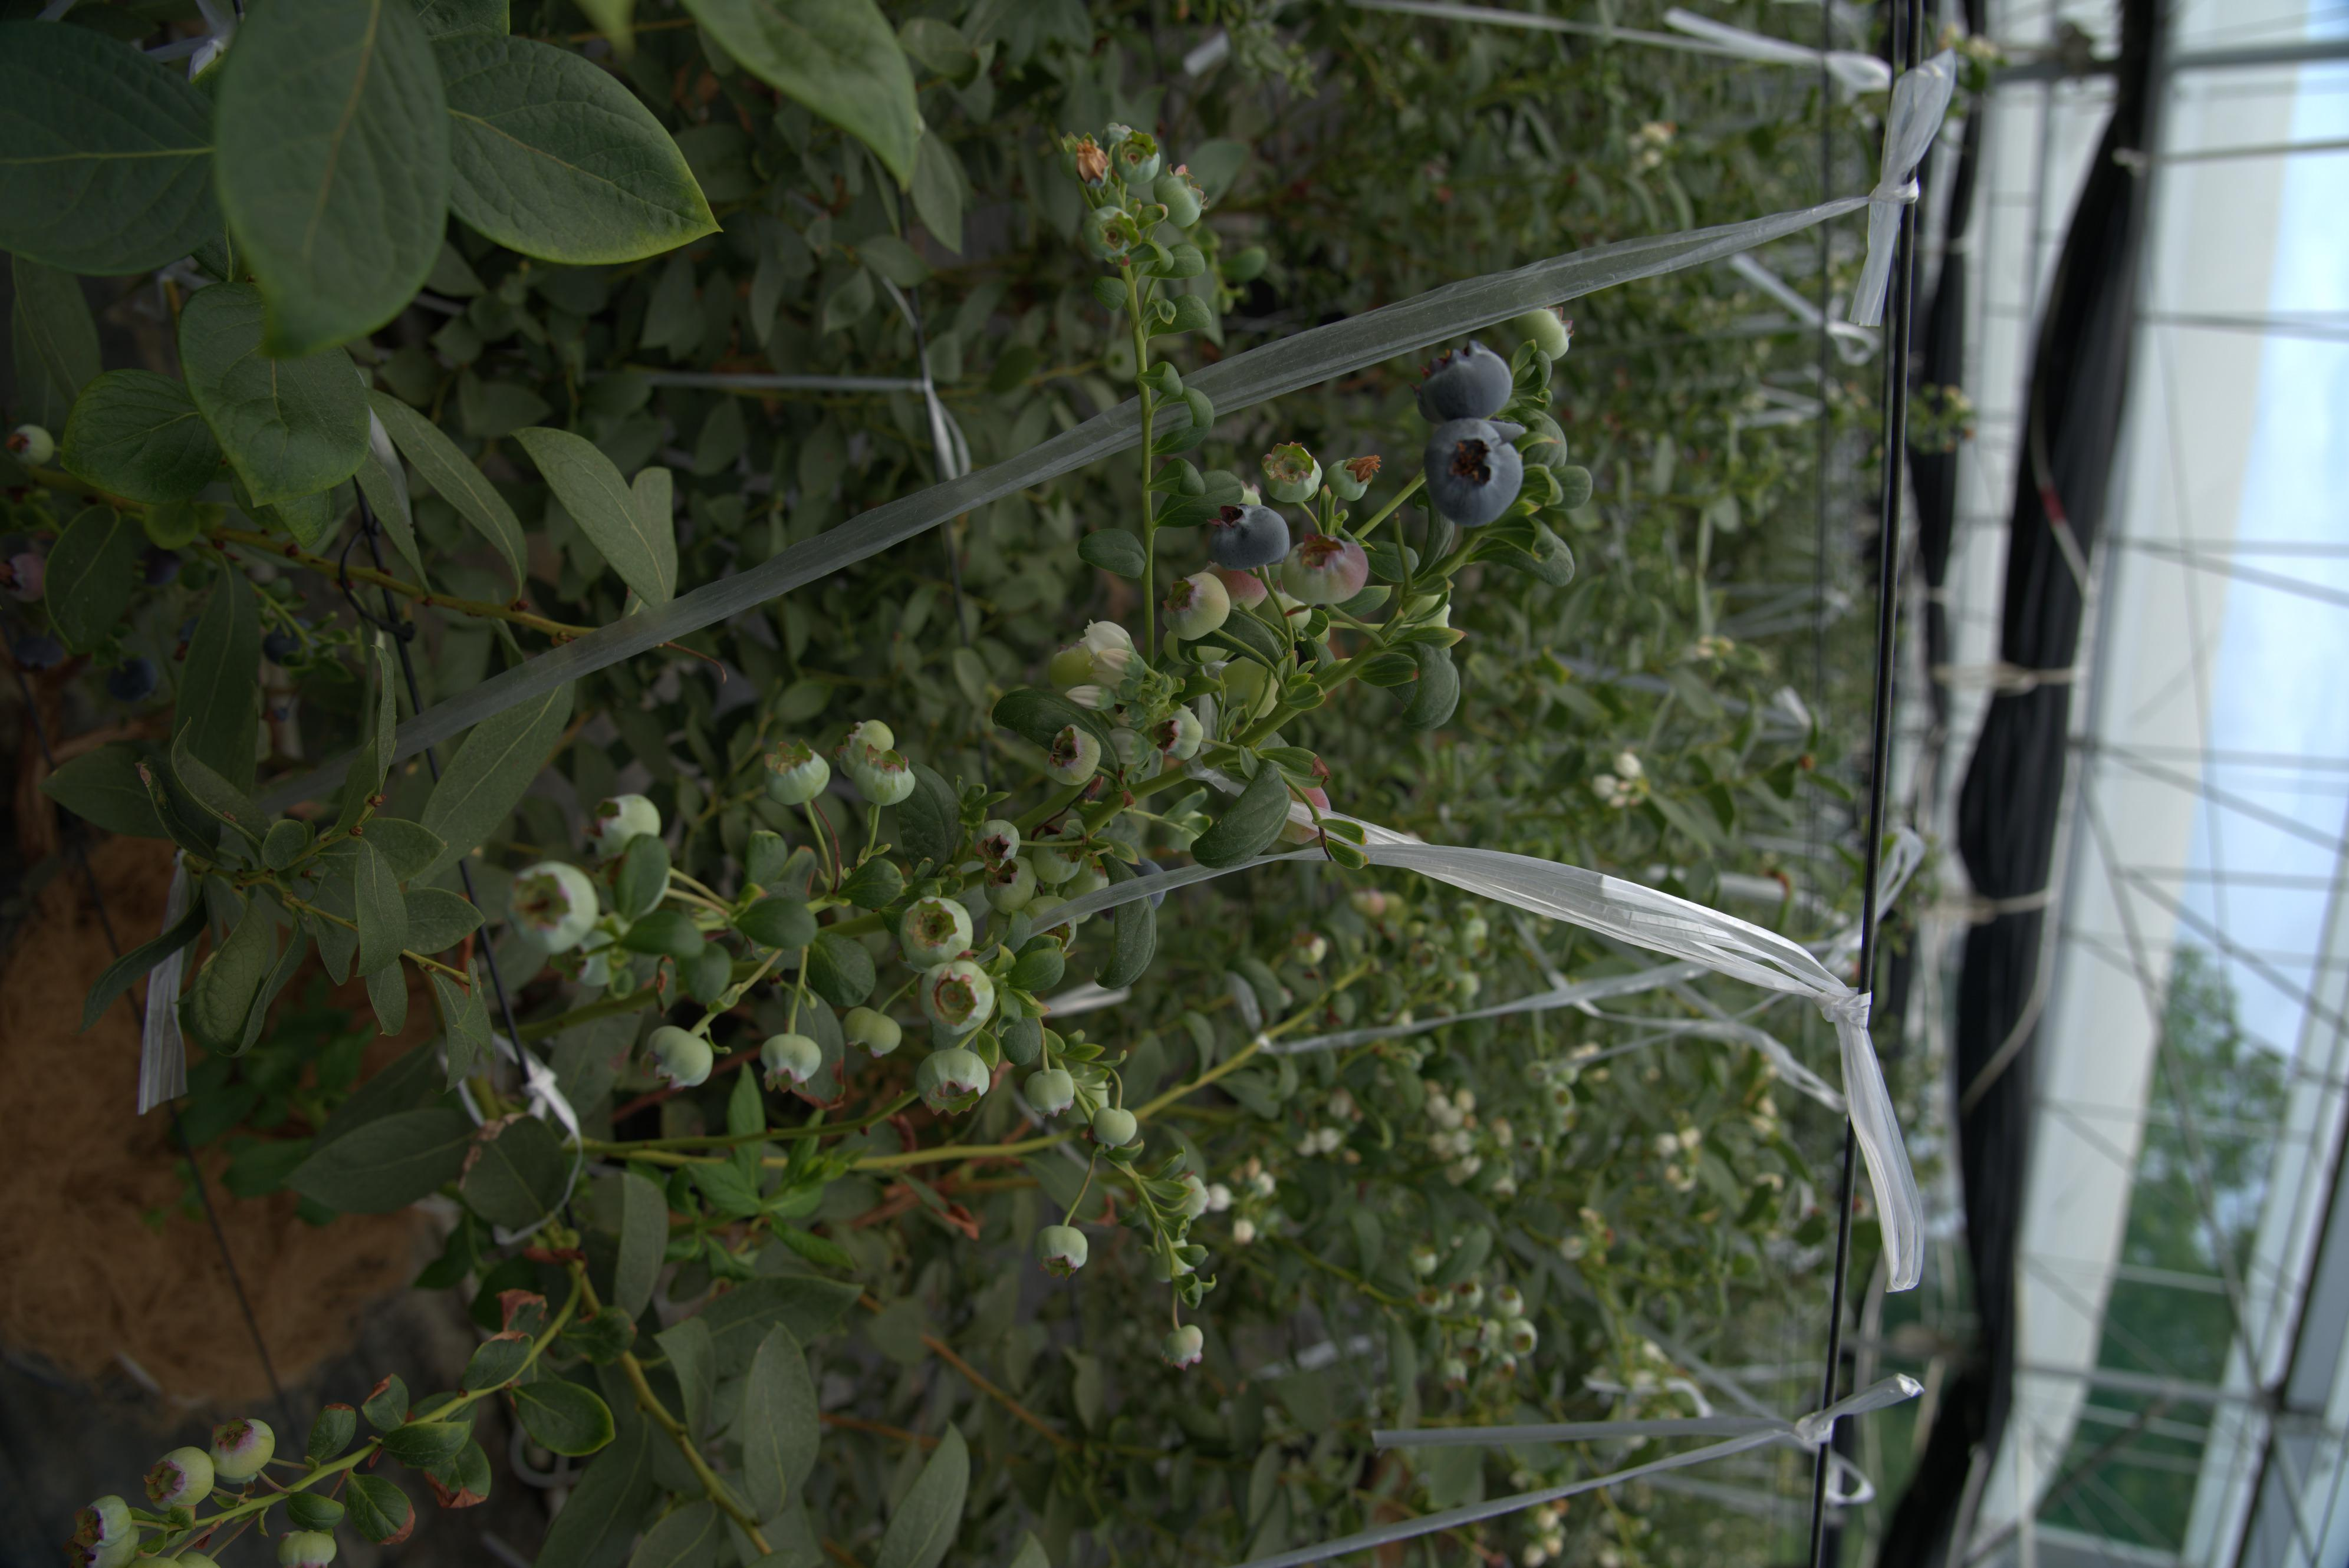ripe-blueberries: (623, 549, 796, 621), (746, 705, 854, 768), (520, 560, 623, 618), (663, 677, 756, 731)
semi-ripe-blueberries: (1295, 1171, 1441, 1237), (795, 653, 926, 716), (844, 742, 966, 796), (1542, 1011, 1647, 1073), (1348, 919, 1456, 975), (1533, 1090, 1642, 1144), (1567, 903, 1677, 955), (1444, 901, 1560, 950), (1101, 1011, 1208, 1064), (2153, 1424, 2263, 1472), (2233, 1473, 2328, 1528), (1108, 954, 1220, 997), (1831, 835, 1927, 884), (1187, 1125, 1276, 1178), (1082, 829, 1183, 875), (1043, 763, 1157, 801), (2128, 1377, 2214, 1424), (252, 761, 352, 798), (1218, 887, 1297, 922), (1978, 758, 2046, 796), (1612, 847, 1672, 887), (2300, 1340, 2349, 1386)
